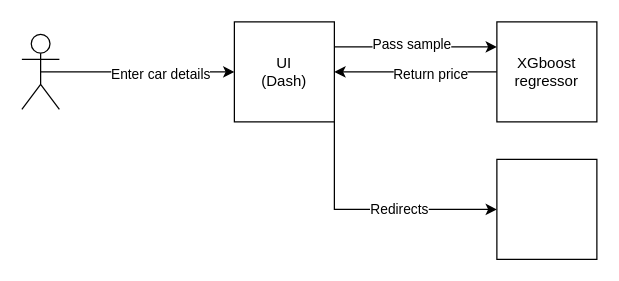
Some shapes in this 619 by 281 pixel diagram are drawn without their labels. Each missing label, with the centre of its shape:
"autoscoot24.com" belongs at pixel 546 208.
"User" belongs at pixel 40 71.
